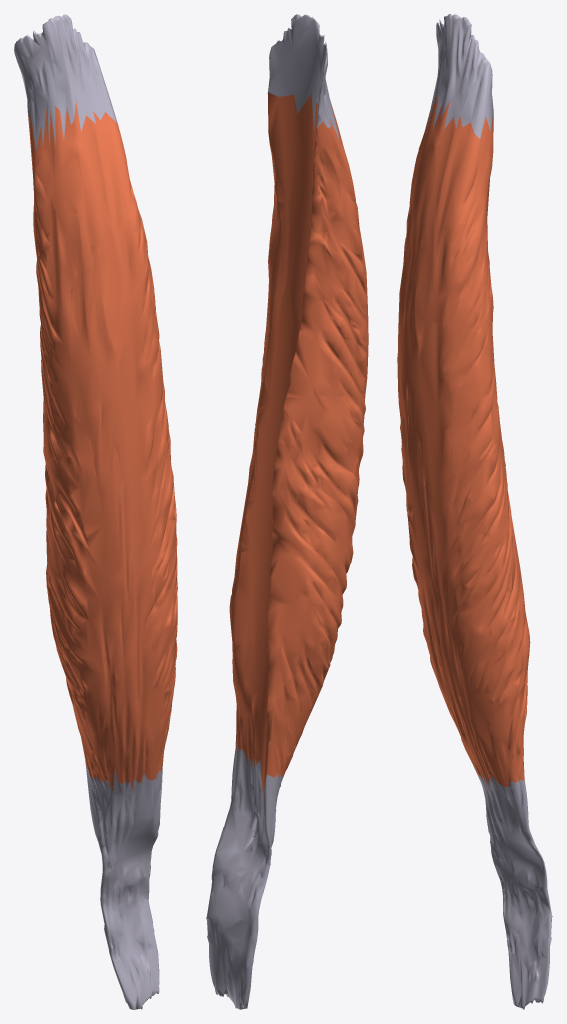
The model's file is Vastus_intermedius_muscle.r_Generated_Mesh_From_X3D.129.glb.
The picture shows the model from 3 angles, left to right: view 1: azimuth 30°, elevation 25°; view 2: azimuth 150°, elevation 25°; view 3: azimuth 330°, elevation 25°; orthographic projection. The views are drawn at different scales.
Parts seen in each view (by area): view 1: Vastus_intermedius_muscle.r_Generated_Mesh_From_X3D.129; view 2: Vastus_intermedius_muscle.r_Generated_Mesh_From_X3D.129; view 3: Vastus_intermedius_muscle.r_Generated_Mesh_From_X3D.129.
Boxes of the visible parts, x1,y1,x2,y2 form: Vastus_intermedius_muscle.r_Generated_Mesh_From_X3D.129: (14, 14, 177, 1009); Vastus_intermedius_muscle.r_Generated_Mesh_From_X3D.129: (206, 14, 368, 1009); Vastus_intermedius_muscle.r_Generated_Mesh_From_X3D.129: (397, 14, 552, 1009).
Size of the model in its own units: 0.0566 by 0.4085 by 0.0478.
